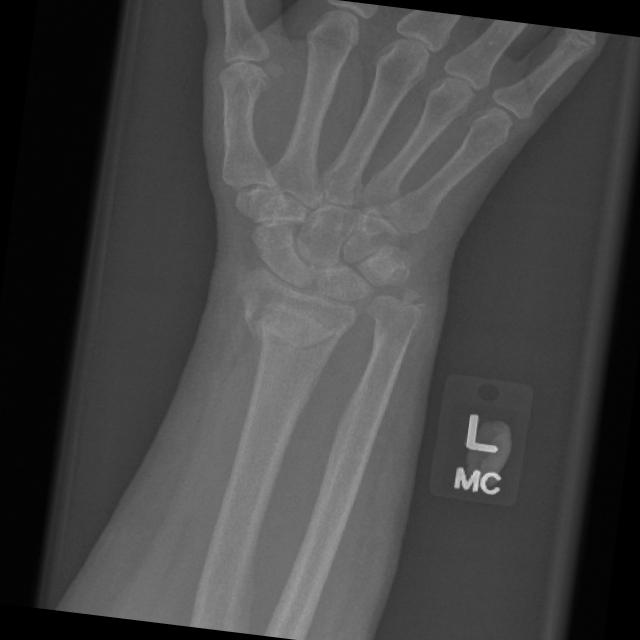wrist positive: (222, 304, 356, 377)
